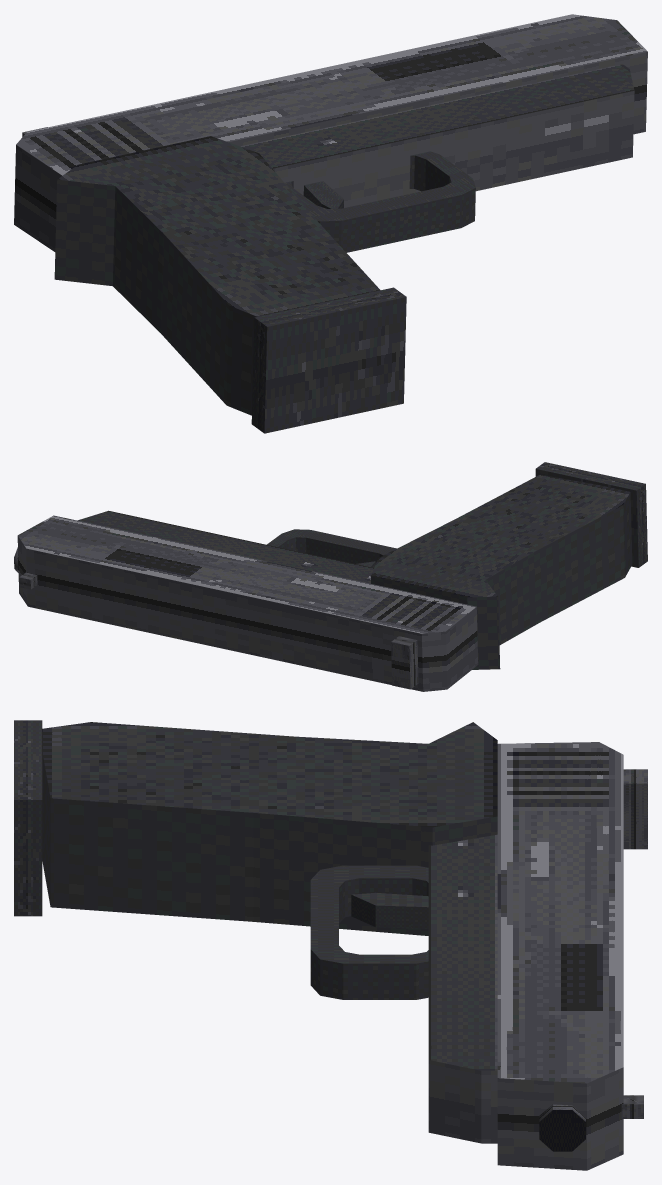
The model's file is pistol.glb.
3 views of the same model, one above another, from view 1: azimuth 30°, elevation 25°; view 2: azimuth 150°, elevation 25°; view 3: azimuth 270°, elevation 25° (orthographic). The views are drawn at different scales.
Parts seen in each view (by area): view 1: pistol; view 2: pistol; view 3: pistol.
Part boxes in pixels (x1,y1,x2,y2): pistol: [14, 14, 647, 433]; pistol: [14, 462, 647, 691]; pistol: [14, 720, 647, 1170].
Size of the model in its own units: 0.1955 by 0.0332 by 0.156.
1 material, 1 textured.
